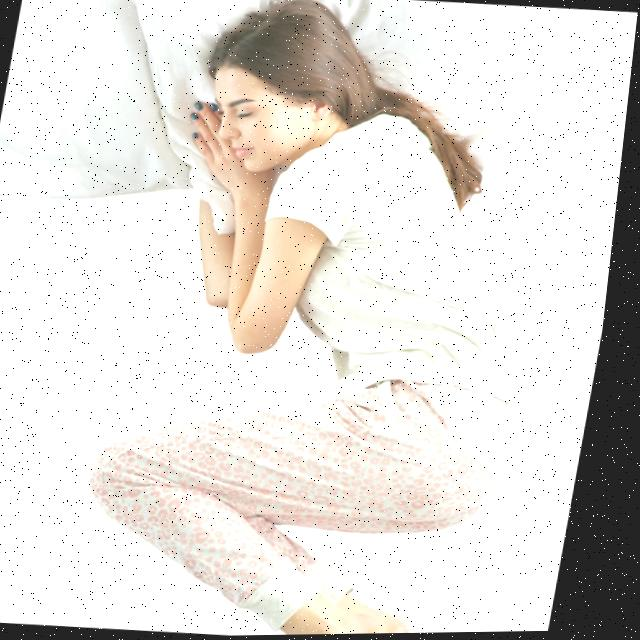sleeping-person: (0, 0, 607, 639)
